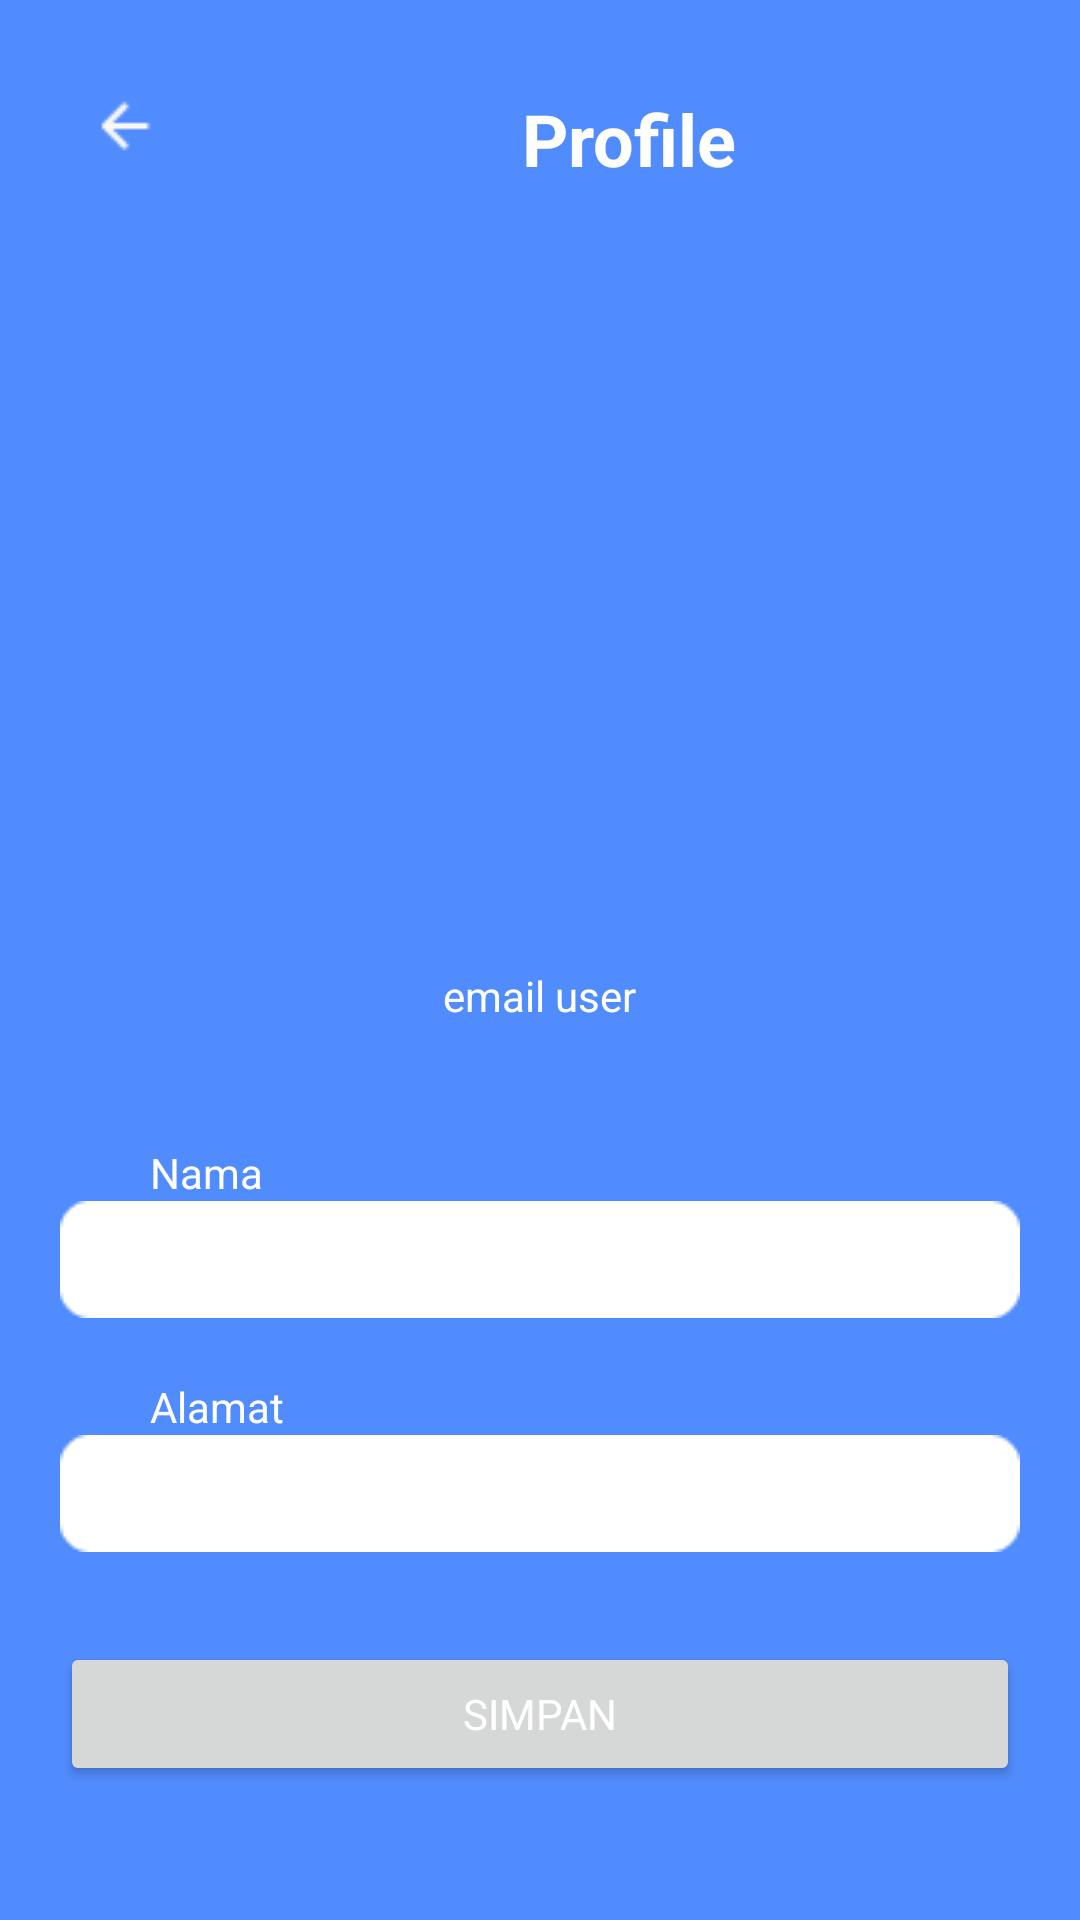

Named icons in this screenshot (1080 × 1920) and their bounding boxes, (x1, y1, x2, y2):
back: (101, 101, 150, 151)
